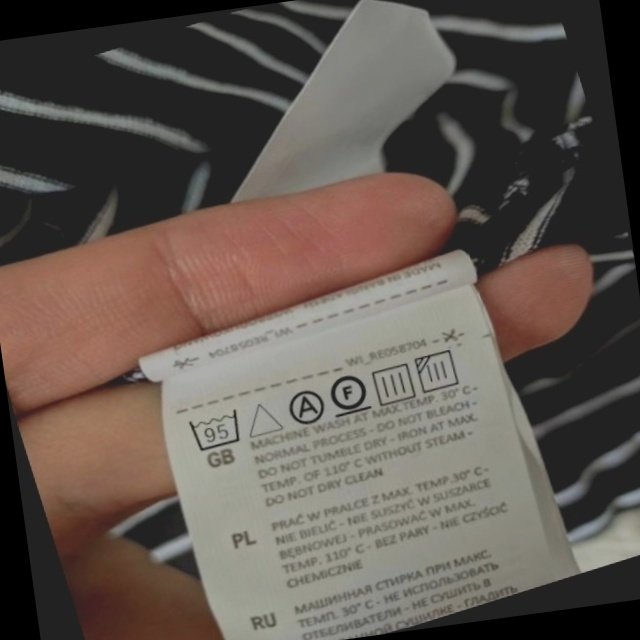95C: (183, 402, 250, 458)
bleach: (239, 392, 286, 444)
drip_dry: (366, 356, 422, 411)
drip_dry_in_shade: (411, 342, 469, 400)
dry_clean: (281, 383, 330, 431)
dry_clean_petrol_only: (323, 364, 375, 422)
